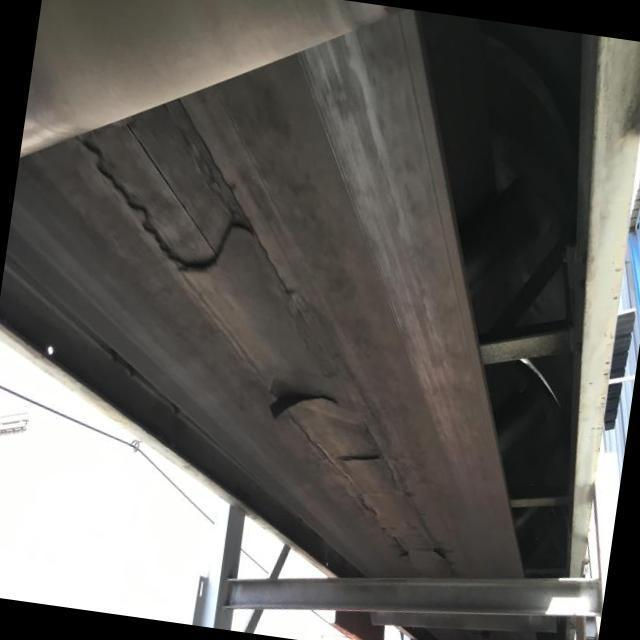Wear: (77, 94, 464, 584)
